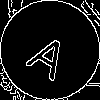A: (25, 25, 78, 82)
